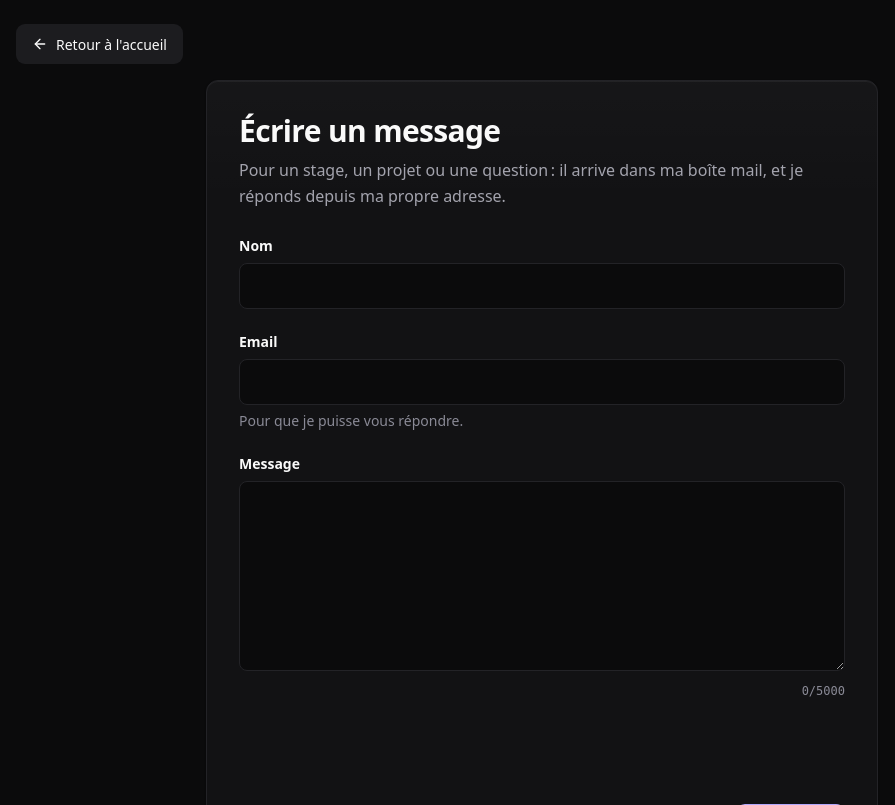
Test: ContactPage › envoie le message et confirme l'envoi
Type "Ada Lovelace" into the field labelled "Nom" at [542, 286], box 239,263 -> 845,309
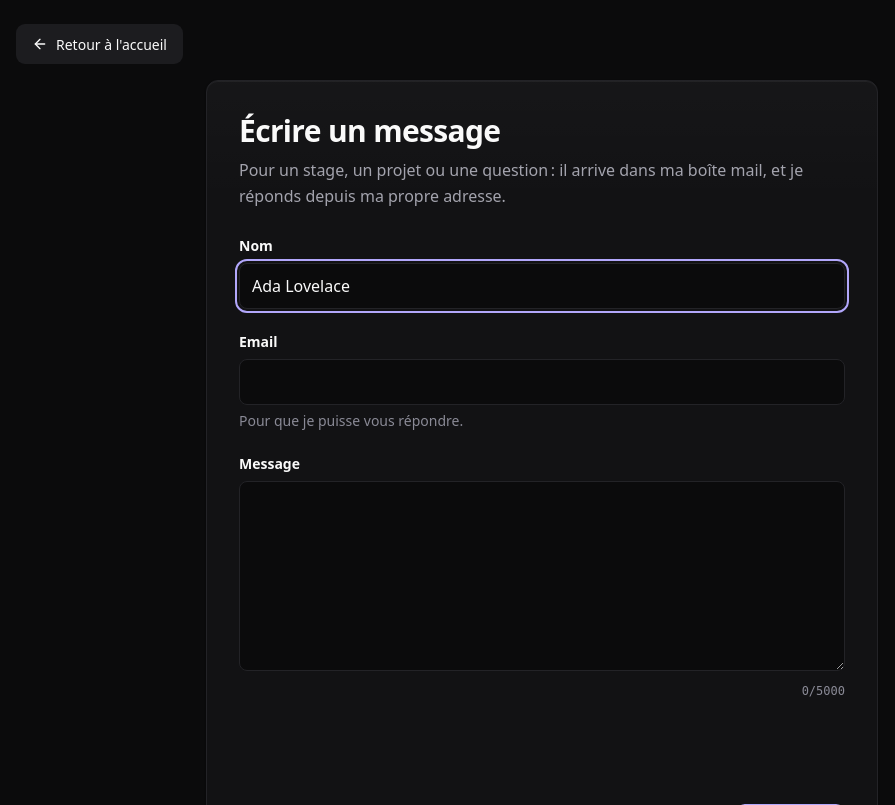
Type "ada@example.com" into the field labelled "Email" at [542, 382], box 239,359 -> 845,405
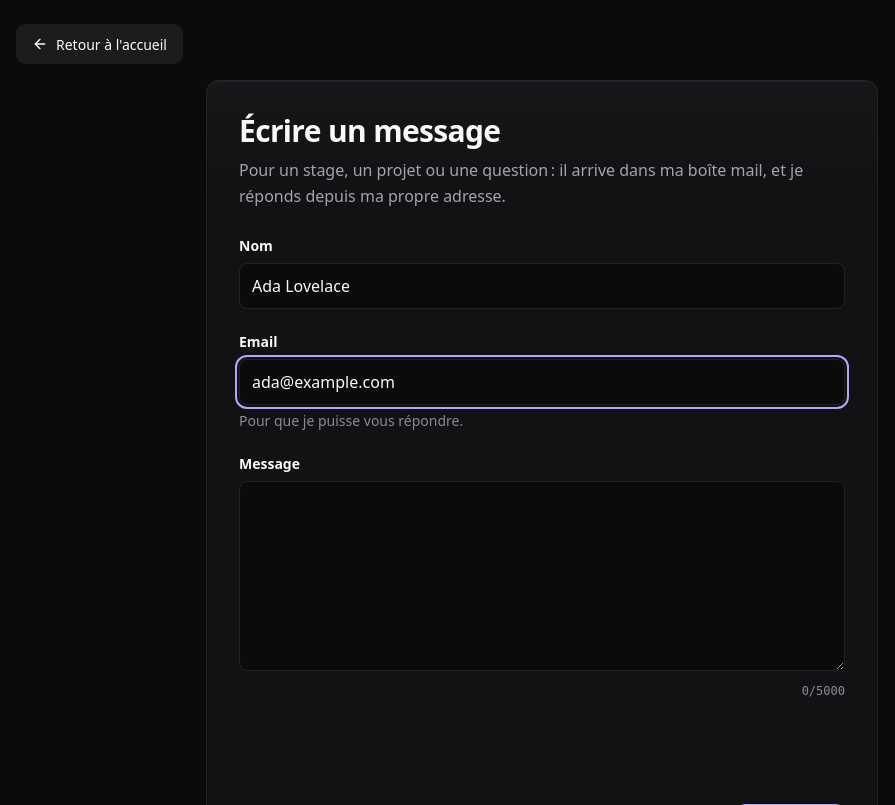
Type "Bonjour, parlons d'un stage en janvier." into the text box labelled "Message" at [542, 576], box 239,481 -> 845,671
(page scrolled)
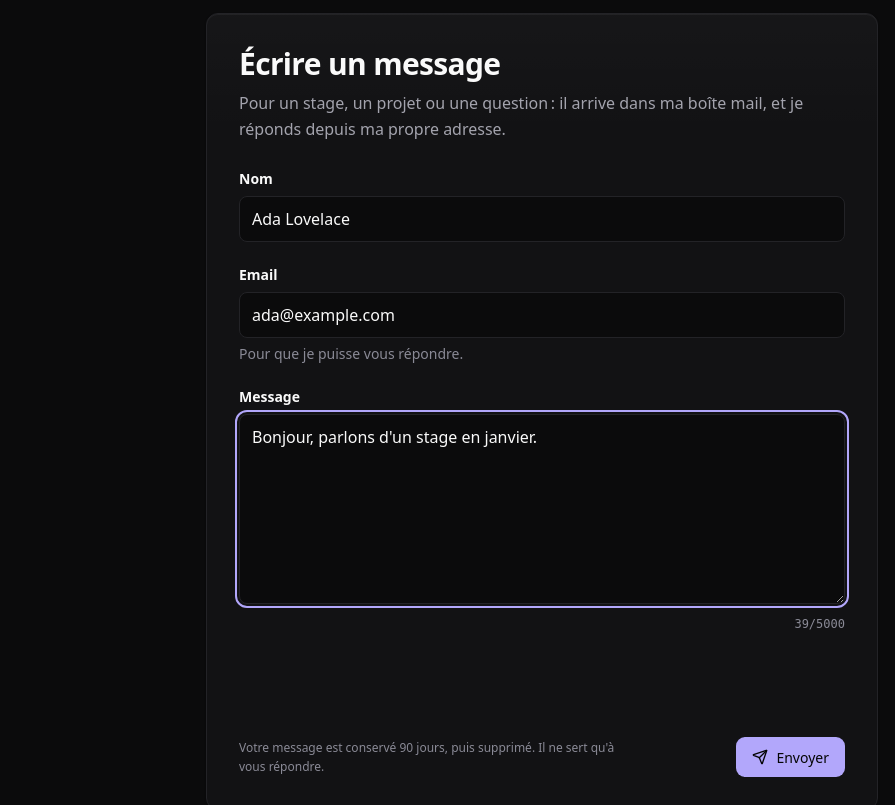
Click the button "Envoyer" at [791, 757], box 736,737 -> 845,777
(page scrolled)
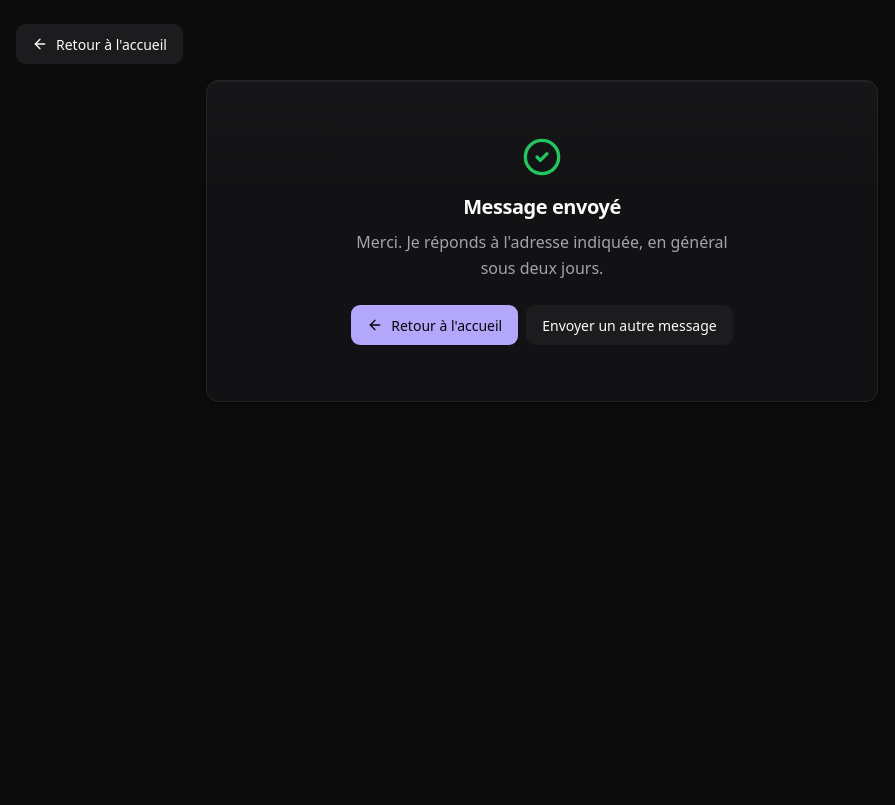
Now the heading "Message envoyé" is shown, box 463,193 -> 621,221
